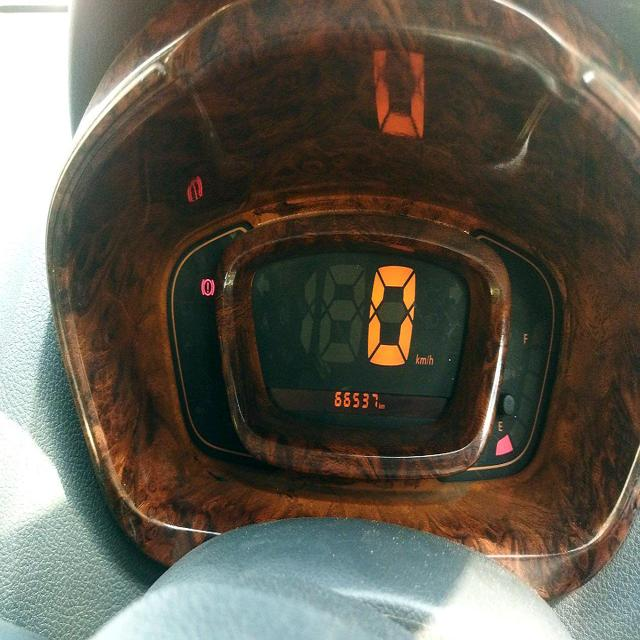odometer: (329, 386, 380, 415)
